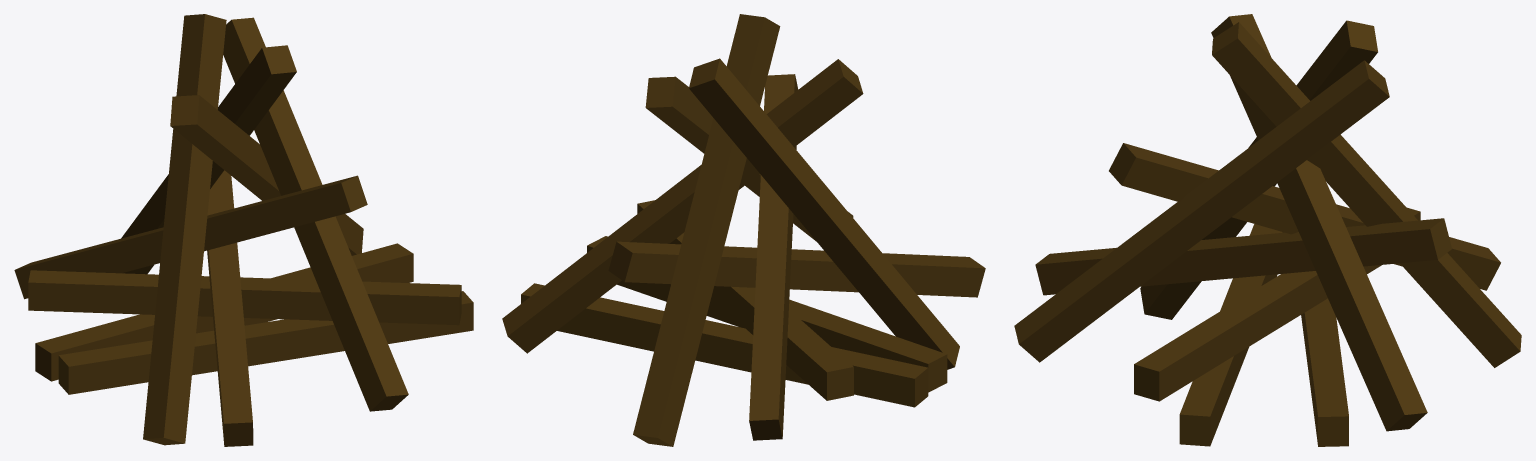
Rendered from logs.fbx.
3 renders of one model, left to right at view 1: azimuth 30°, elevation 25°; view 2: azimuth 150°, elevation 25°; view 3: azimuth 270°, elevation 25°, orthographic. The views are drawn at different scales.
Visible parts, largest first — view 1: logs; view 2: logs; view 3: logs.
Part boxes in pixels (x1=…): logs: x1=14, y1=14, x2=473, y2=446; logs: x1=502, y1=14, x2=985, y2=446; logs: x1=1014, y1=14, x2=1521, y2=446.
Size of the model in its own units: 27.05 by 23.62 by 29.75.
